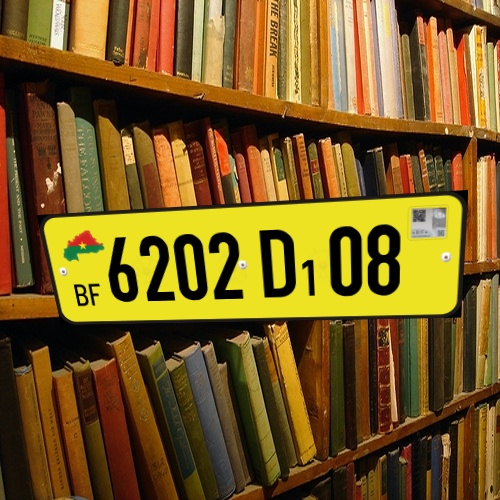plate: (22, 196, 472, 328)
